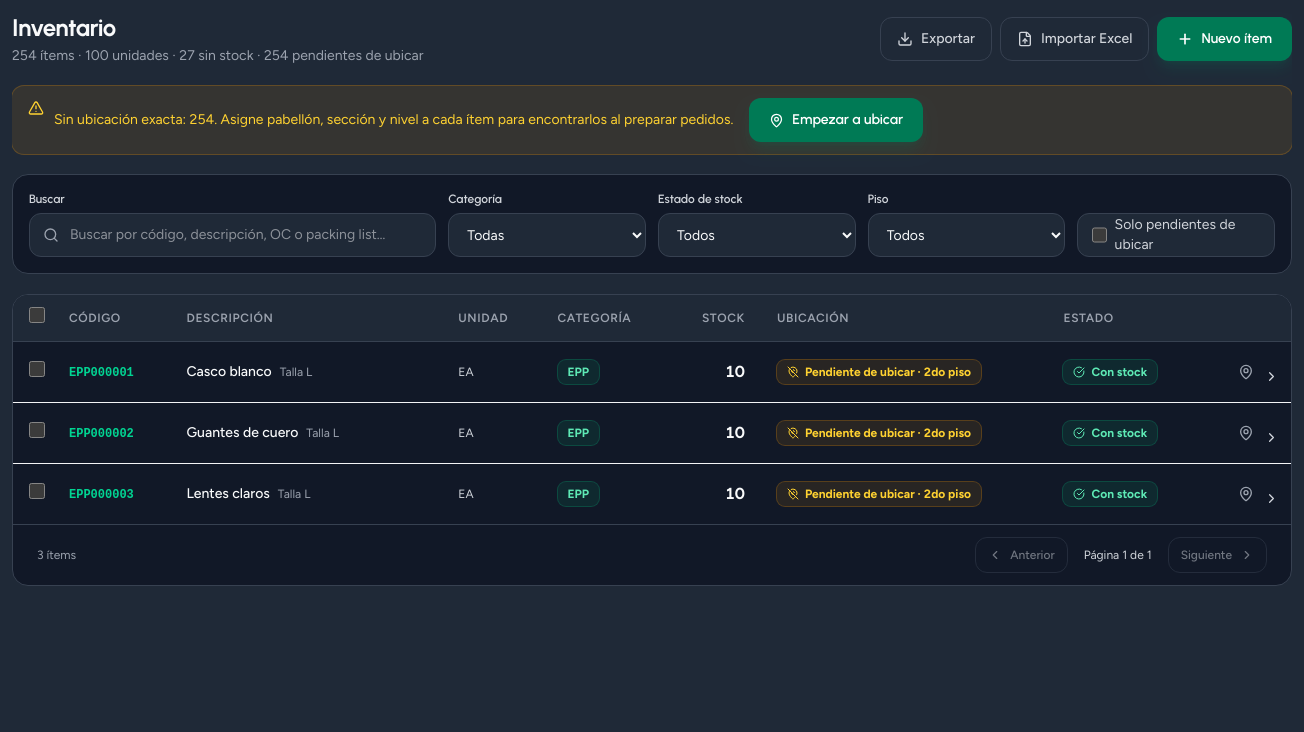
Test: InventarioPage — selección masiva › una casilla suelta usa el singular y «Quitar selección» la limpia
Expected: the link "EPP000001" is shown, [69, 366, 134, 380]
Click the checkbox named "Seleccionar EPP000002". click: (37, 430)
box: [29, 422, 45, 438]
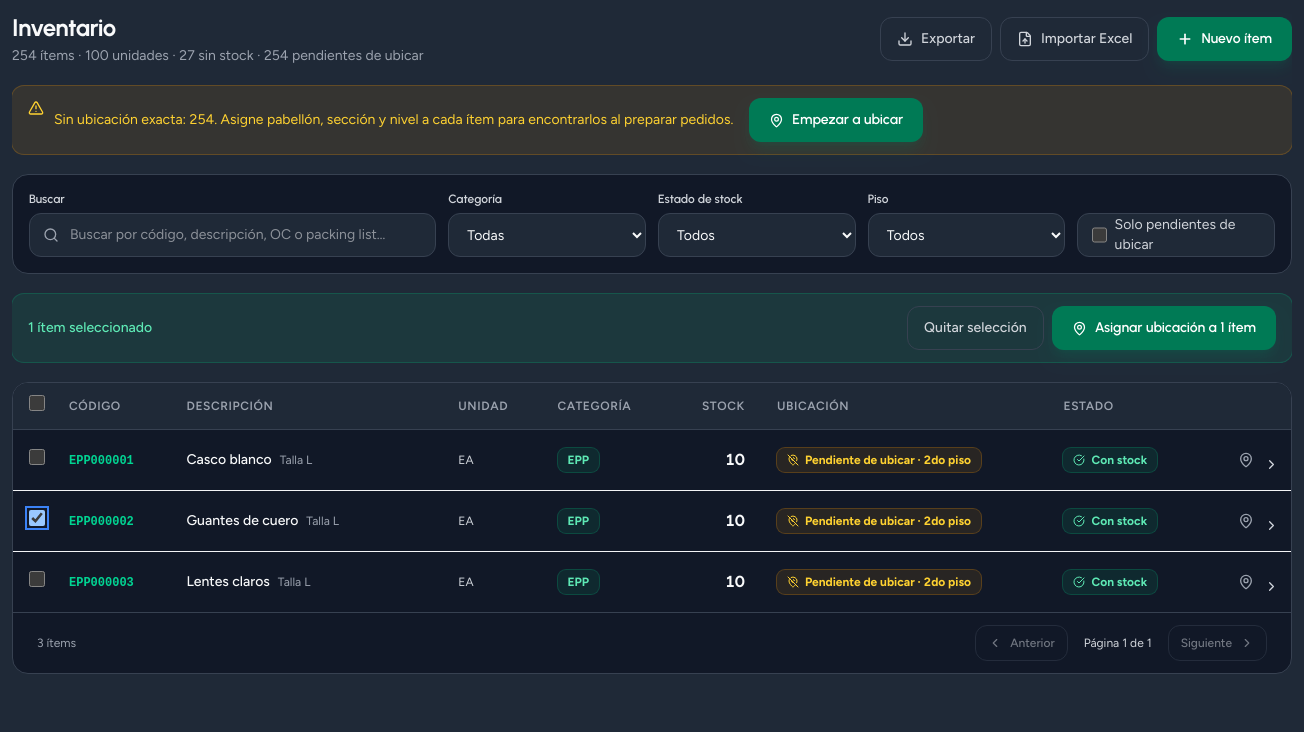
Expected: the text "1 ítem seleccionado" is shown, [28, 318, 152, 338]
Expected: the button "Asignar ubicación a 1 ítem" is shown, [1052, 306, 1276, 350]
Click the button "Quitar selección". click: (975, 328)
box: [907, 306, 1044, 350]
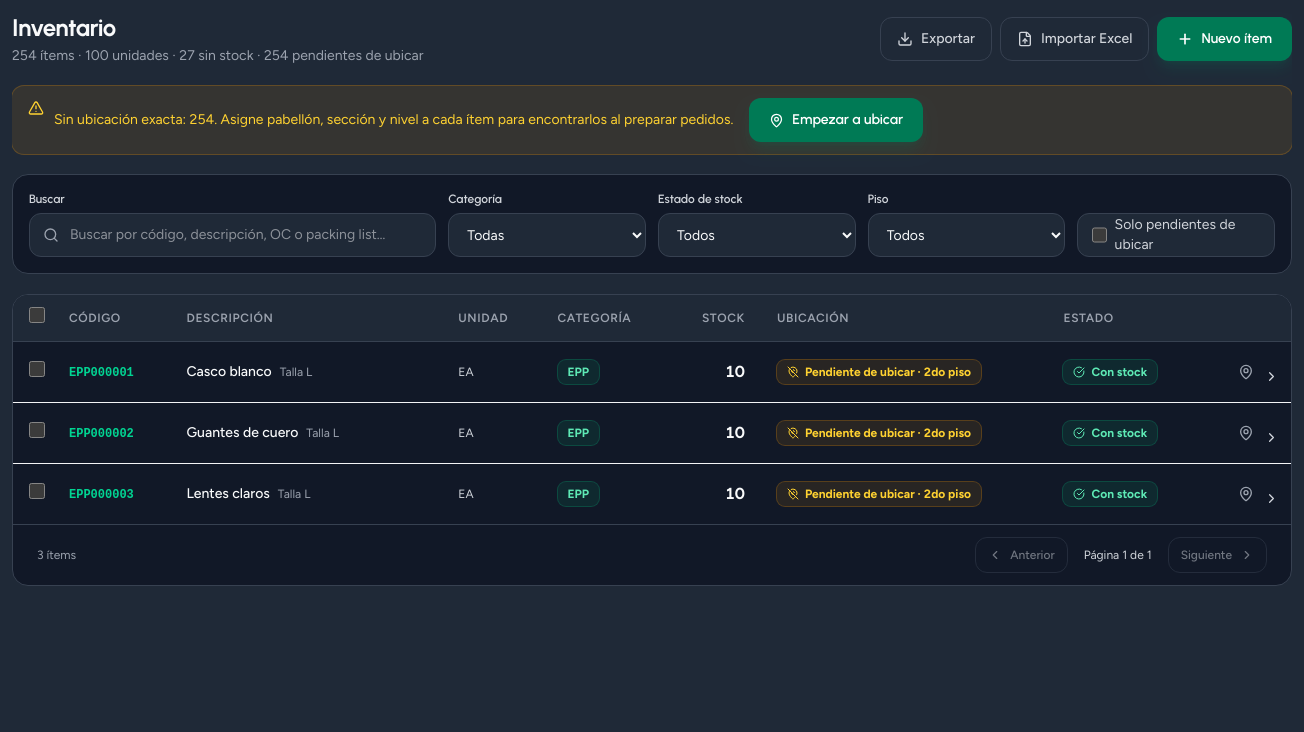
Expected: the text "ítem seleccionado" is gone
